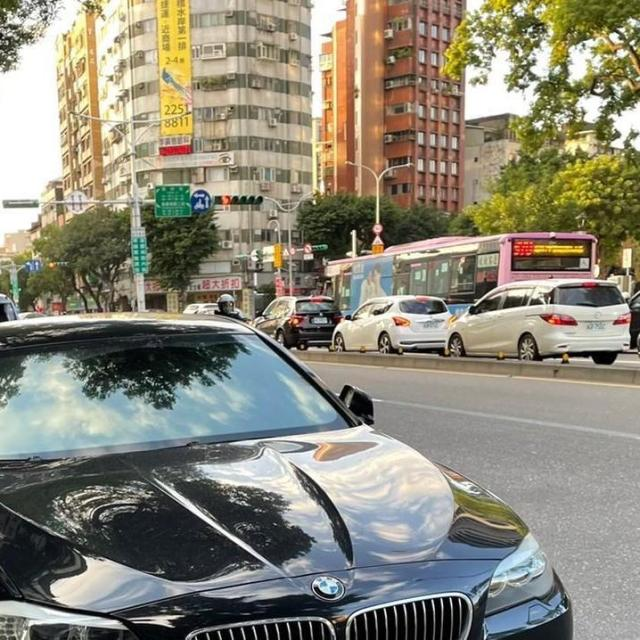W: (583, 319, 610, 333)
